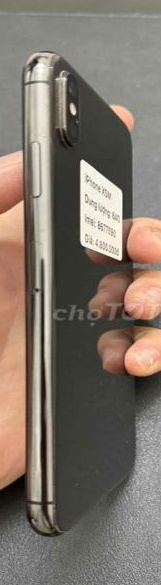scratch: (68, 369, 131, 466), (55, 464, 113, 499), (44, 503, 69, 521), (43, 60, 63, 73)
